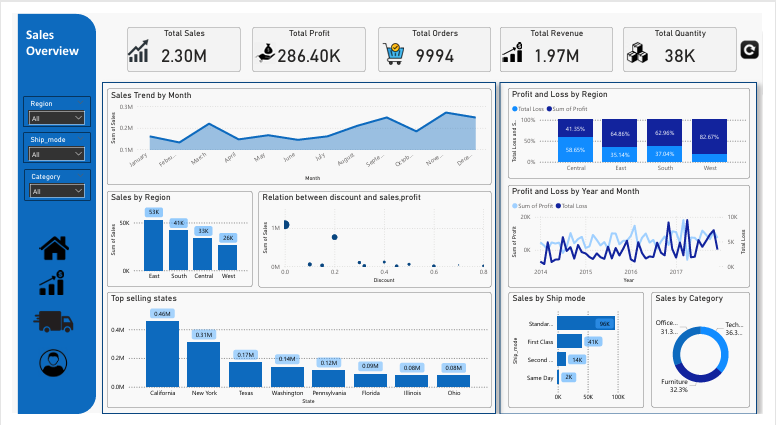

What the dashboard file says about the page in this screenshot:
{"tool":"powerbi","page":{"name":"Sales","canvas":[1500,800],"ordinal":1},"visuals":[{"type":"shape","box":[9.7,0,156.5,800],"z":0},{"type":"columnChart","title":"Sales by Region","fields":{"Category":["Retail_Sales.Region"],"Y":["Sum(Retail_Sales.Sales)"]},"box":[187.7,353.6,291.6,192.7],"z":1000},{"type":"areaChart","title":"Sales Trend by Month","fields":{"Category":["Date_Table.Date.Variation.Date Hierarchy.Month"],"Y":["Sum(Retail_Sales.Sales)"]},"box":[187.7,149.2,769.3,192.7],"z":2000},{"type":"scatterChart","title":"Relation between discount and sales,profit","fields":{"X":["Retail_Sales.Discount"],"Y":["Sum(Retail_Sales.Sales)"],"Size":["Sum(Retail_Sales.Profit)"]},"box":[490.7,354.5,466.6,192.3],"z":3000},{"type":"textbox","box":[21,21,145.2,116.1],"z":5000},{"type":"shape","box":[974.2,137.1,512.9,662.9],"z":6000},{"type":"hundredPercentStackedColumnChart","title":"Profit and Loss by Region","fields":{"Category":["Retail_Sales.Region"],"Y":["Retail_Sales.Total Loss","Sum(Retail_Sales.Profit)"]},"box":[990.3,148.4,483.9,180.6],"z":7000},{"type":"lineChart","title":"Profit and Loss by Year and Month","fields":{"Category":["Date_Table.Date.Variation.Date Hierarchy.Year","Date_Table.Date.Variation.Date Hierarchy.Month"],"Y":["Sum(Retail_Sales.Profit)"],"Y2":["Retail_Sales.Total Loss"]},"box":[990.3,341.9,483.9,204.8],"z":8000},{"type":"columnChart","title":"Top selling states","fields":{"Category":["Retail_Sales.State"],"Y":["Sum(Retail_Sales.Sales)"]},"box":[187.7,556.4,769.3,231.3],"z":9000},{"type":"donutChart","title":" Sales by Category","fields":{"Category":["Retail_Sales.Category"],"Y":["Sum(Retail_Sales.Sales)"]},"box":[1277.4,556.5,196.8,230.6],"z":10000},{"type":"slicer","fields":{"Values":["Retail_Sales.Region"]},"box":[21,164.5,133.9,61.3],"z":11000},{"type":"slicer","fields":{"Values":["Retail_Sales.Ship_mode"]},"box":[21,237.1,133.9,61.3],"z":12000},{"type":"slicer","fields":{"Values":["Retail_Sales.Category"]},"box":[22.6,311.3,132.3,61.3],"z":13000},{"type":"card","title":"Total Sales","fields":{"Values":["Sum(Retail_Sales.Sales)"]},"box":[229,25.8,225.8,90.3],"z":14000},{"type":"card","title":"Total Profit","fields":{"Values":["Sum(Retail_Sales.Profit)"]},"box":[479,25.8,225.8,90.3],"z":15000},{"type":"card","title":"Total Orders","fields":{"Values":["Retail_Sales.Total Orders"]},"box":[730.6,25.8,225.8,90.3],"z":16000},{"type":"card","title":"Total Revenue","fields":{"Values":["Sum(Retail_Sales.Revenue)"]},"box":[974.2,25.8,225.8,90.3],"z":17000},{"type":"image","box":[217.7,41.9,64.5,64.5],"z":18000},{"type":"image","box":[479,46.8,51.6,61.3],"z":19000},{"type":"image","box":[730.6,51.6,59.7,56.5],"z":20000},{"type":"image","box":[974.2,53.2,51.6,50],"z":21000},{"type":"barChart","title":"Sales by Ship mode","fields":{"Category":["Retail_Sales.Ship_mode"],"Y":["Sum(Retail_Sales.Sales)"]},"box":[990.5,556.4,271.5,231.3],"z":22000},{"type":"image","box":[43.5,433.9,79,69.4],"z":23000},{"type":"image","box":[45.2,508.1,64.5,59.7],"z":24000},{"type":"image","box":[45.2,662.9,71,69.4],"z":25000},{"type":"image","box":[32.3,567.7,96.8,95.2],"z":26000},{"type":"image","box":[1446.8,25.8,53.2,90.3],"z":27000},{"type":"shape","box":[179.3,137.4,786,662],"z":28000},{"type":"card","title":"Total Quantity","fields":{"Values":["Sum(Retail_Sales.Quantity)"]},"box":[1221,25.8,225.8,90.3],"z":29000},{"type":"image","box":[1221,48.4,56.5,58.1],"z":30000}]}

Visuals, with their boxes on the page's 1500x800 design canvas (x1, y1, x2, y2). These are canvas units, not pixel positions in the 776x425 screenshot, which may show the page scaled, cropped or inside an application window:
shape: <box>10,0,166,800</box>
"Sales by Region" columnChart: <box>188,354,479,546</box>
"Sales Trend by Month" areaChart: <box>188,149,957,342</box>
"Relation between discount and sales,profit" scatterChart: <box>491,354,957,547</box>
textbox: <box>21,21,166,137</box>
shape: <box>974,137,1487,800</box>
"Profit and Loss by Region" hundredPercentStackedColumnChart: <box>990,148,1474,329</box>
"Profit and Loss by Year and Month" lineChart: <box>990,342,1474,547</box>
"Top selling states" columnChart: <box>188,556,957,788</box>
" Sales by Category" donutChart: <box>1277,556,1474,787</box>
slicer - Retail_Sales.Region: <box>21,164,155,226</box>
slicer - Retail_Sales.Ship_mode: <box>21,237,155,298</box>
slicer - Retail_Sales.Category: <box>23,311,155,373</box>
"Total Sales" card: <box>229,26,455,116</box>
"Total Profit" card: <box>479,26,705,116</box>
"Total Orders" card: <box>731,26,956,116</box>
"Total Revenue" card: <box>974,26,1200,116</box>
image: <box>218,42,282,106</box>
image: <box>479,47,531,108</box>
image: <box>731,52,790,108</box>
image: <box>974,53,1026,103</box>
"Sales by Ship mode" barChart: <box>990,556,1262,788</box>
image: <box>44,434,122,503</box>
image: <box>45,508,110,568</box>
image: <box>45,663,116,732</box>
image: <box>32,568,129,663</box>
image: <box>1447,26,1500,116</box>
shape: <box>179,137,965,799</box>
"Total Quantity" card: <box>1221,26,1447,116</box>
image: <box>1221,48,1278,106</box>
